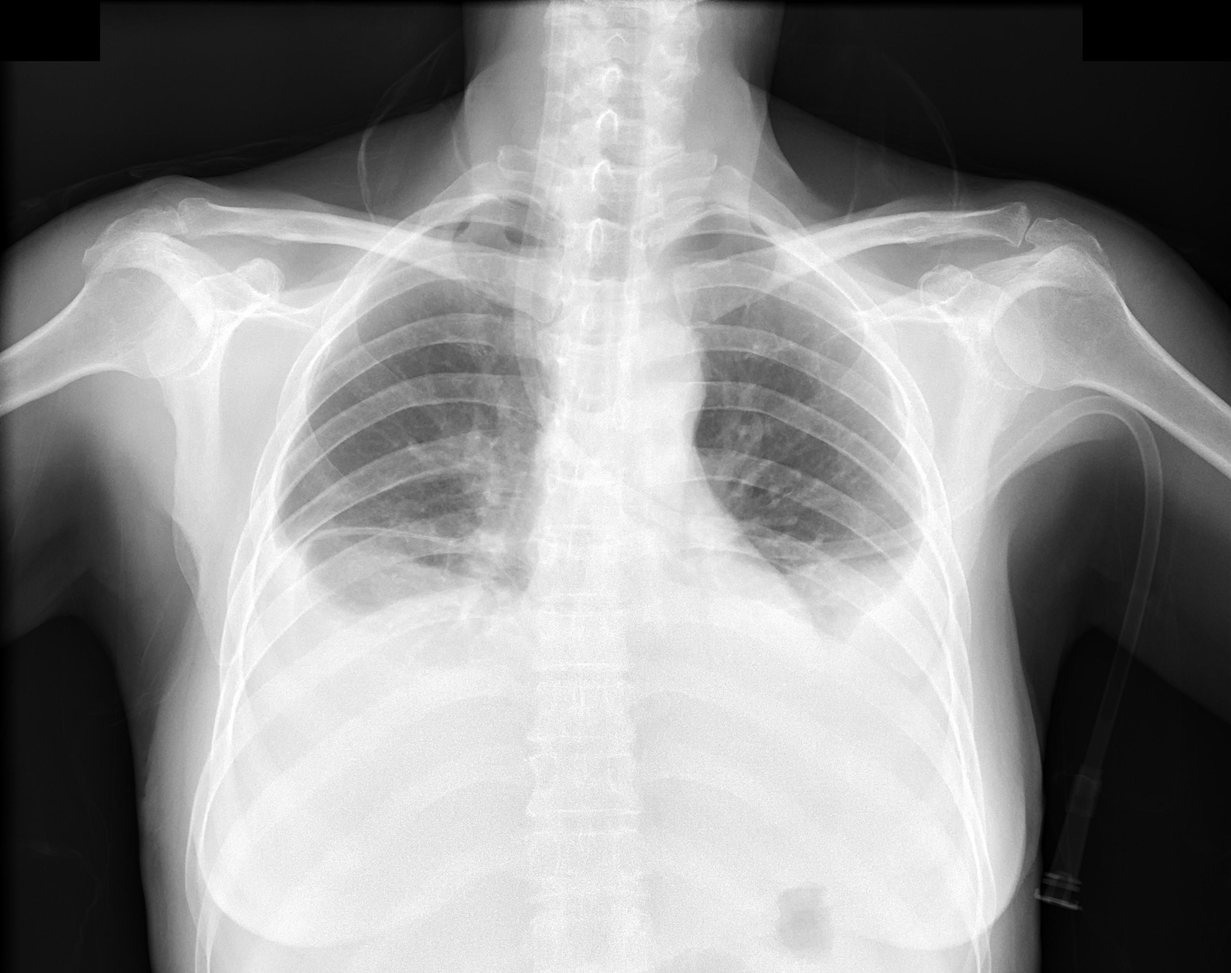Pulmonary fibrosis: (304, 524, 477, 547)
